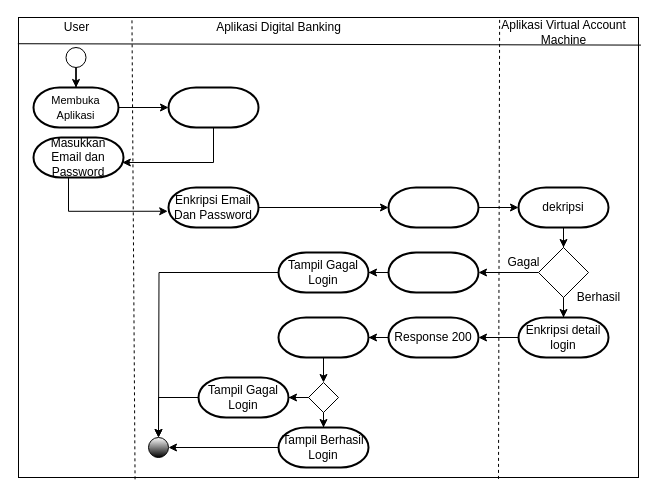
Image size: 660x498. Some labels were removed from this diagram. Each missing label, with the centre of its shape:
Deskripsi: point 323,337
Kirim hasil Enkripsi: point 433,207
Menampilkan Halaman Login: point 213,107
Response 406: point 433,272
